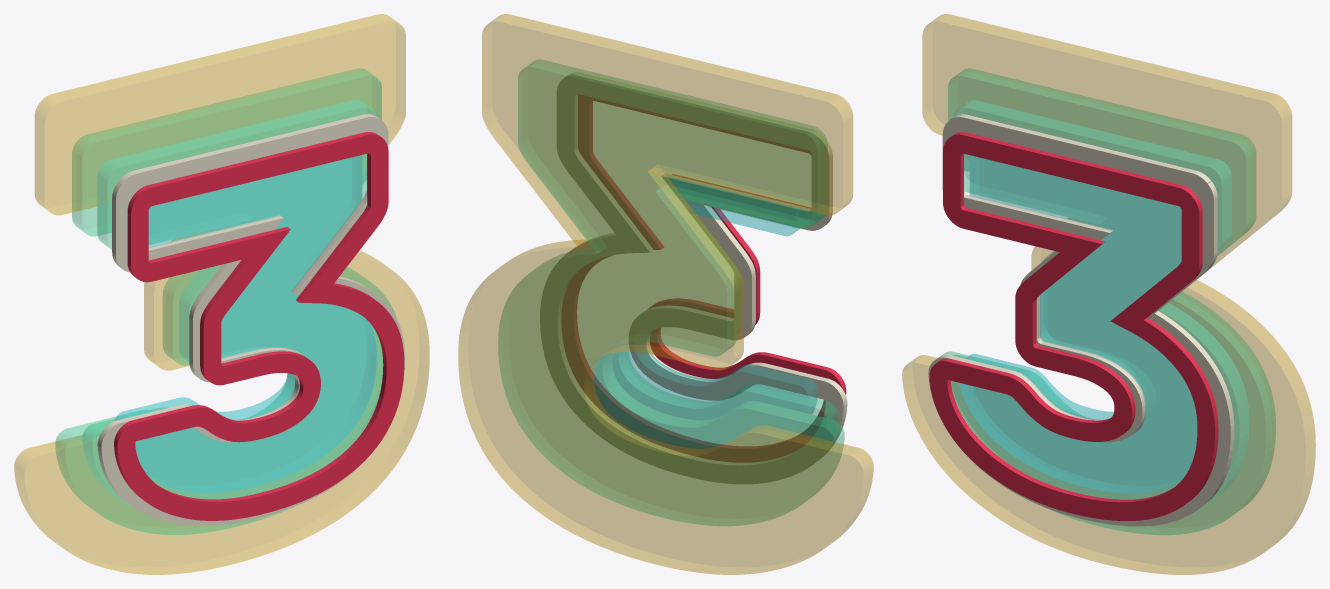
The picture shows the model from 3 angles, left to right: view 1: azimuth 30°, elevation 25°; view 2: azimuth 150°, elevation 25°; view 3: azimuth 330°, elevation 25°; orthographic projection.
Parts seen in each view (by area): view 1: Plane.001; view 2: Plane.001; view 3: Plane.001.
Boxes of the visible parts, left/top/right/bottom form: Plane.001: left=14, top=14, right=429, bottom=574; Plane.001: left=458, top=14, right=873, bottom=574; Plane.001: left=902, top=14, right=1315, bottom=574.
Bounding box in the file's own units: 11.72 × 13.93 × 2.15.
